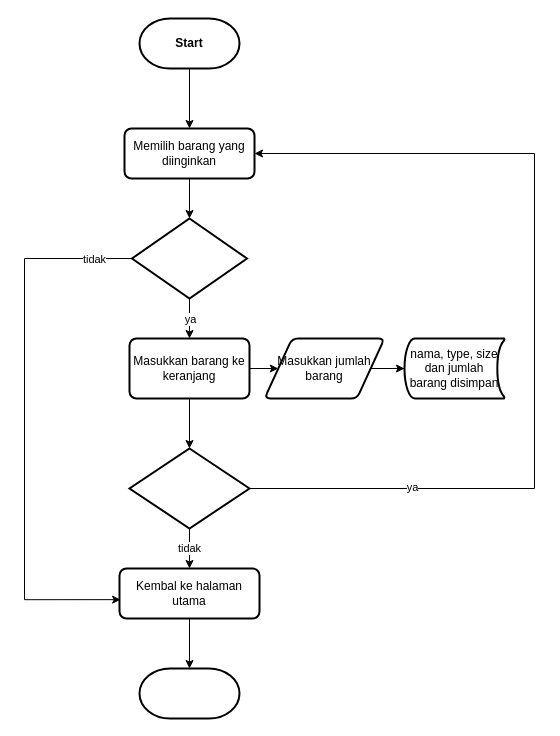
The diagram is 560 pixels wide and 736 high, and some of its shapes have lost their labels. The box of each missing label's shape, as (x1, y1, x2, y2) in pixels:
Barang tersedia: (130, 217, 248, 299)
End: (138, 667, 240, 719)
Memilih barang yang berbeda: (128, 447, 250, 529)
